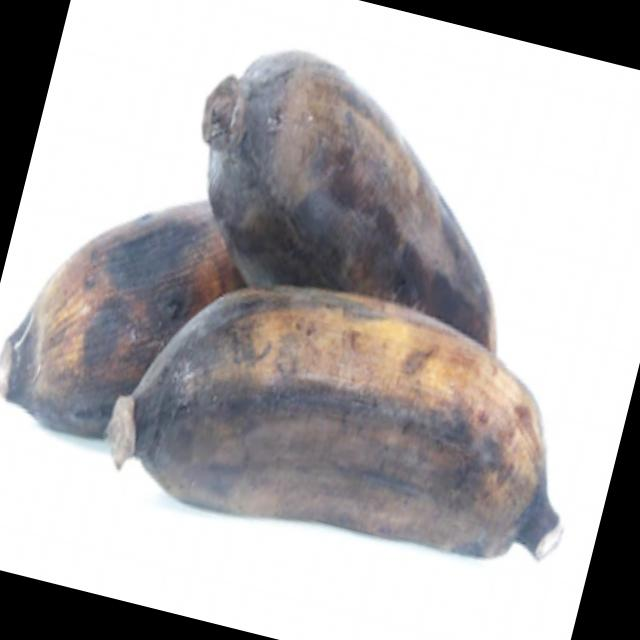rotten-banana: (112, 244, 610, 596), (170, 32, 553, 327), (0, 174, 220, 450)
